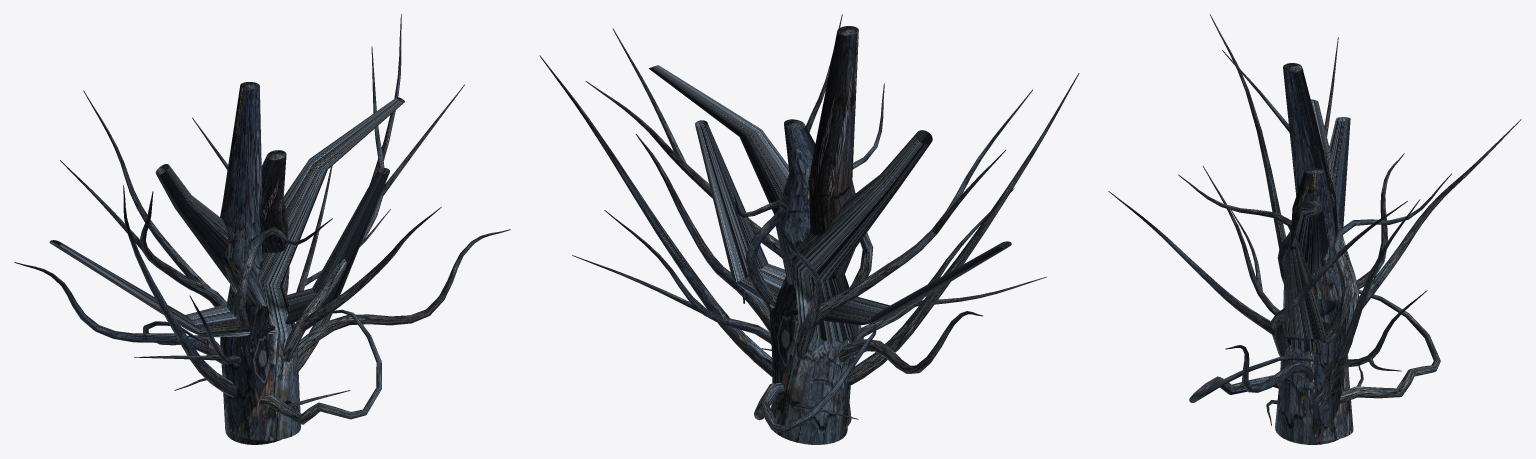
Rendered from Arvores05.fbx.
The picture shows the model from 3 angles, left to right: view 1: azimuth 30°, elevation 25°; view 2: azimuth 150°, elevation 25°; view 3: azimuth 270°, elevation 25°; orthographic projection. The views are drawn at different scales.
Parts seen in each view (by area): view 1: Cylinder, tree.001; view 2: Cylinder, tree.001; view 3: Cylinder, tree.001.
Part boxes in pixels (x1,y1,x2,y2): Cylinder: (49,82,404,444); tree.001: (14,14,510,424); Cylinder: (649,26,1011,444); tree.001: (539,14,1079,433); Cylinder: (1275,63,1353,444); tree.001: (1108,14,1521,425).
Size of the model in its own units: 1.82 by 1.62 by 1.54.
Materials: 2 (2 with a texture image).
